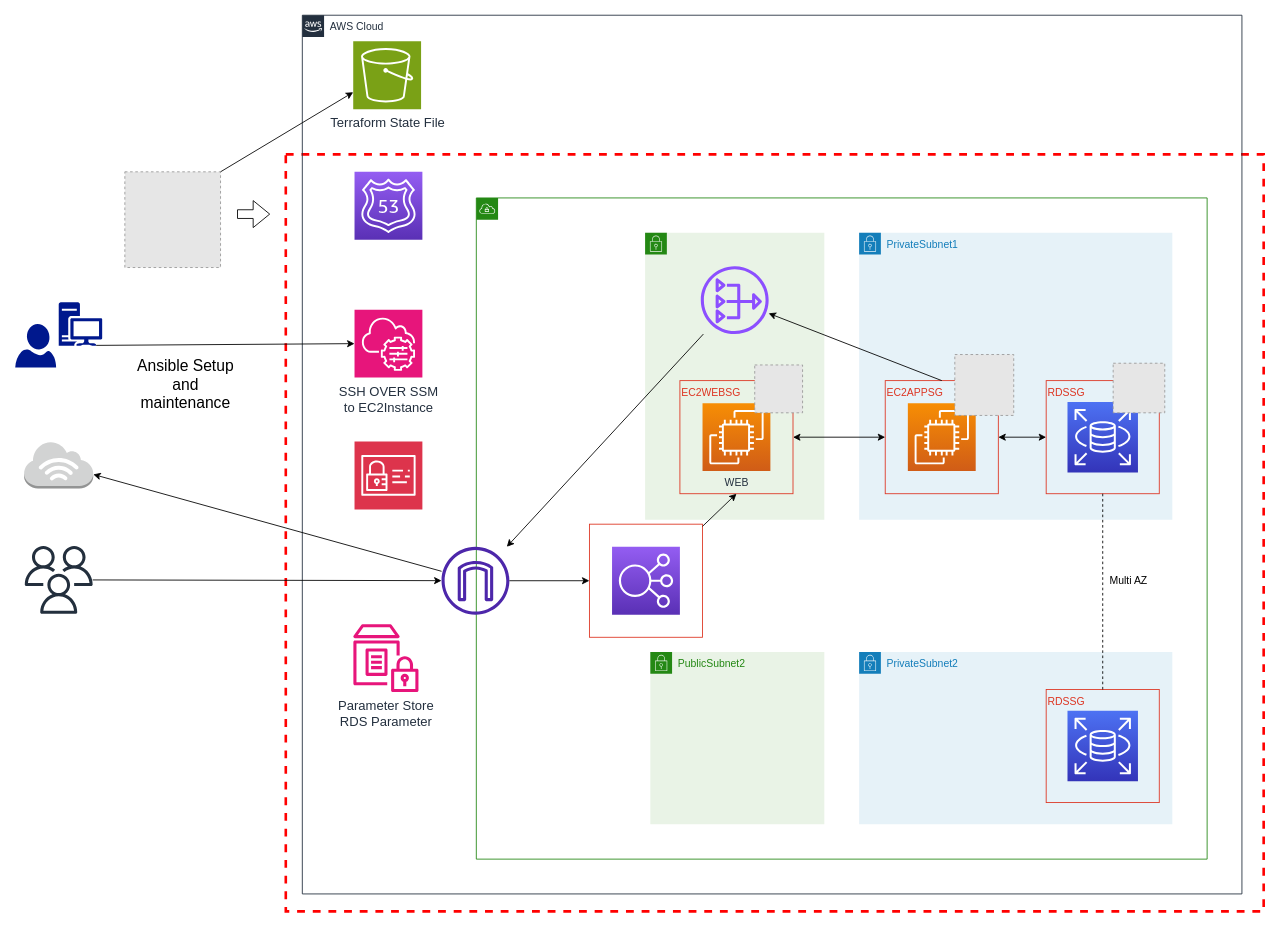
The diagram is 1280 pixels wide and 927 high, and some of its shapes have lost their labels. Grey dashed boxes stand in for pictures. The shapes that lost their labels are listed below. From the top down, each one's box as (x1, y1, x2, y2) in pixels, then its label:
(354, 171, 422, 240): Private Hosted Zone (app.instance.privatelocal)
(644, 232, 824, 520): PublicSubnet1
(907, 402, 976, 471): APP
(354, 441, 422, 509): IAM Attach to EC2
(475, 197, 1207, 859): VPC
(589, 523, 703, 637): ALBSG
